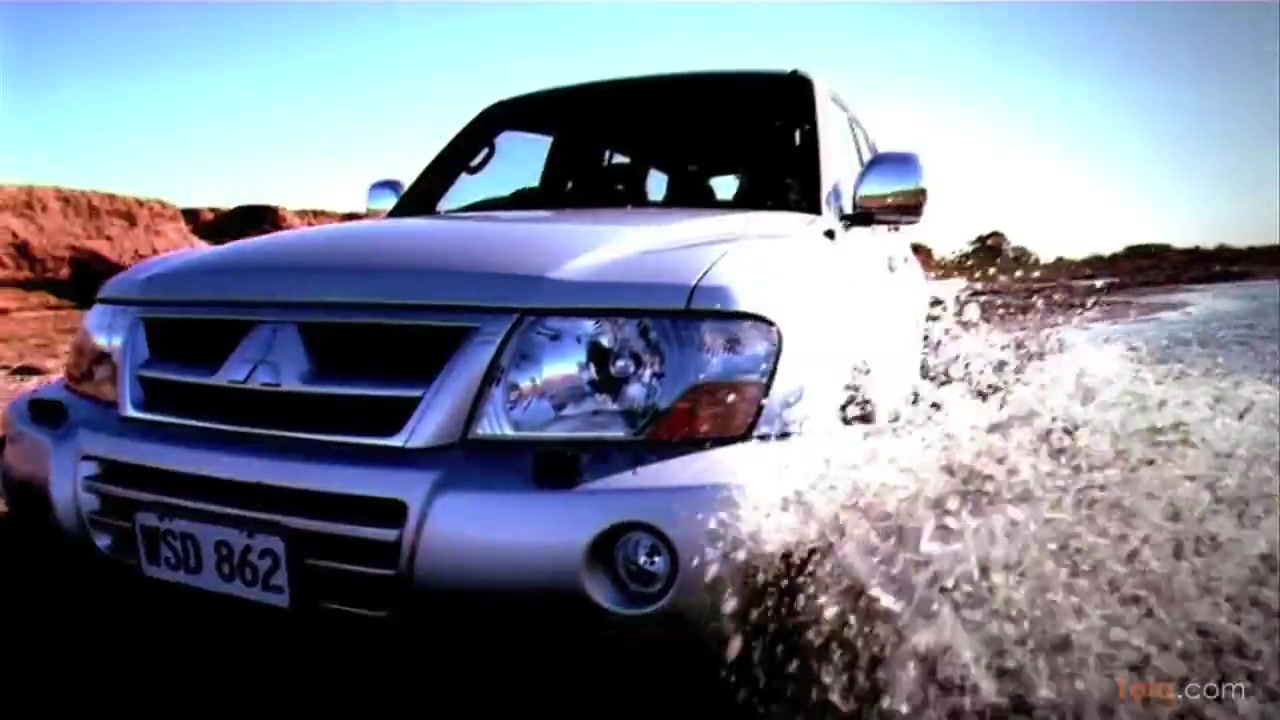car: (2, 66, 933, 657)
